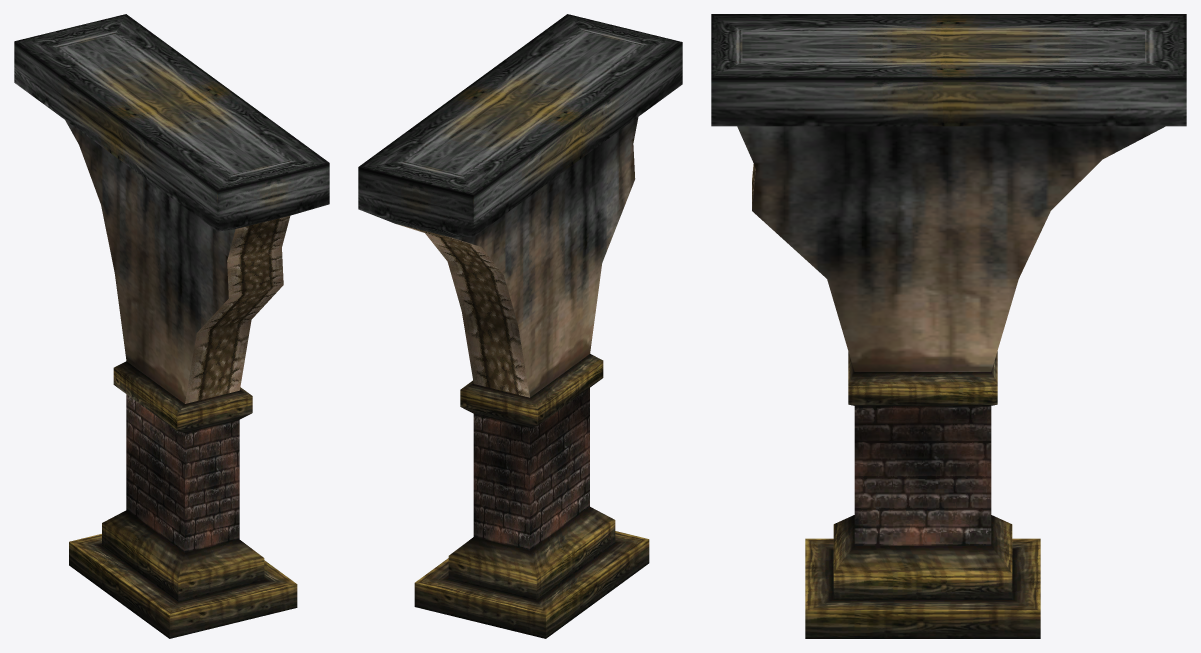
Rendered from CB_BRKNC1.fbx.
The picture shows the model from 3 angles, left to right: view 1: azimuth 30°, elevation 25°; view 2: azimuth 150°, elevation 25°; view 3: azimuth 270°, elevation 25°; orthographic projection. The views are drawn at different scales.
Visible parts, largest first — view 1: CB_BRKNC1; view 2: CB_BRKNC1; view 3: CB_BRKNC1.
Part boxes in pixels (x1,y1,x2,y2): CB_BRKNC1: [14, 14, 329, 638]; CB_BRKNC1: [358, 14, 682, 638]; CB_BRKNC1: [711, 14, 1186, 638].
Bounding box in the file's own units: 25219 × 89814 × 69557.
Materials: 5 (5 with a texture image).
